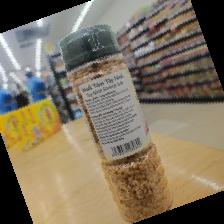TayNinh_green: (61, 23, 175, 223)
